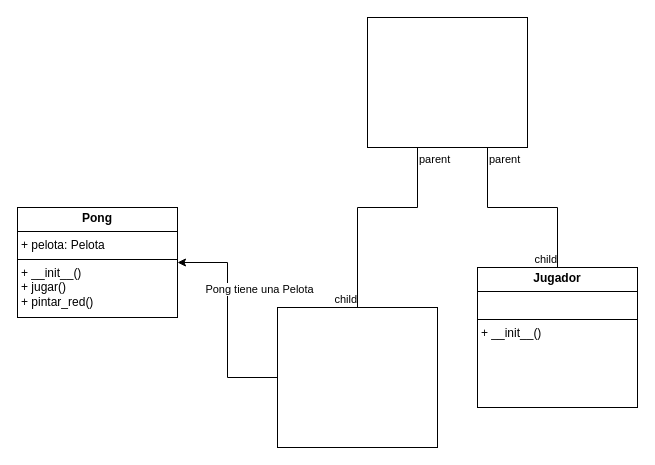
This 655x465 diagram has some shape labels left out. The shapes that lost their labels are listed below. From the top down, each one's centre as x and y in pixels, then its label:
At point (447, 82): "Pintable + pos_x: int + pos_y: int + ancho: int + alto: int + pintar()".
At point (357, 377): "Pelota + tam_pelota: int + __init__() + mover()".
